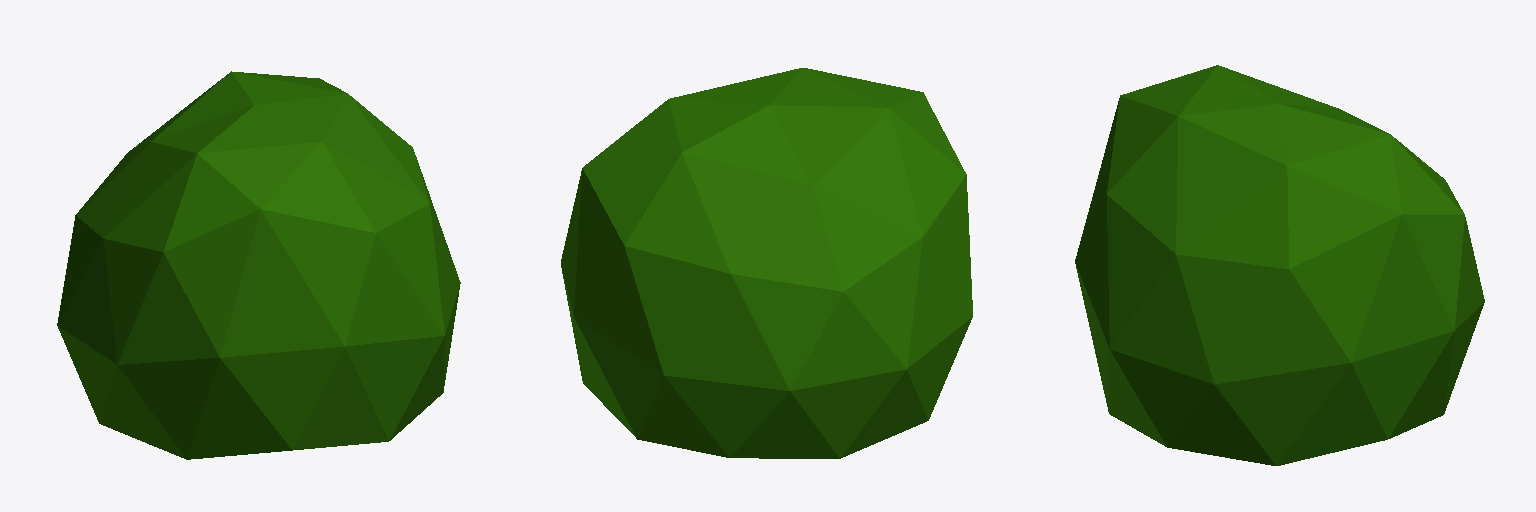
File: bush1.obj
3 renders of one model, left to right at view 1: azimuth 30°, elevation 25°; view 2: azimuth 150°, elevation 25°; view 3: azimuth 270°, elevation 25°, orthographic.
Parts seen in each view (by area): view 1: Bush1_2_Icosphere.084; view 2: Bush1_2_Icosphere.084; view 3: Bush1_2_Icosphere.084.
Part boxes in pixels (x1,y1,x2,y2): Bush1_2_Icosphere.084: (57, 71, 460, 459); Bush1_2_Icosphere.084: (561, 68, 972, 458); Bush1_2_Icosphere.084: (1075, 65, 1484, 465).
Bounding box in the file's own units: 1.53 × 1.29 × 1.58.